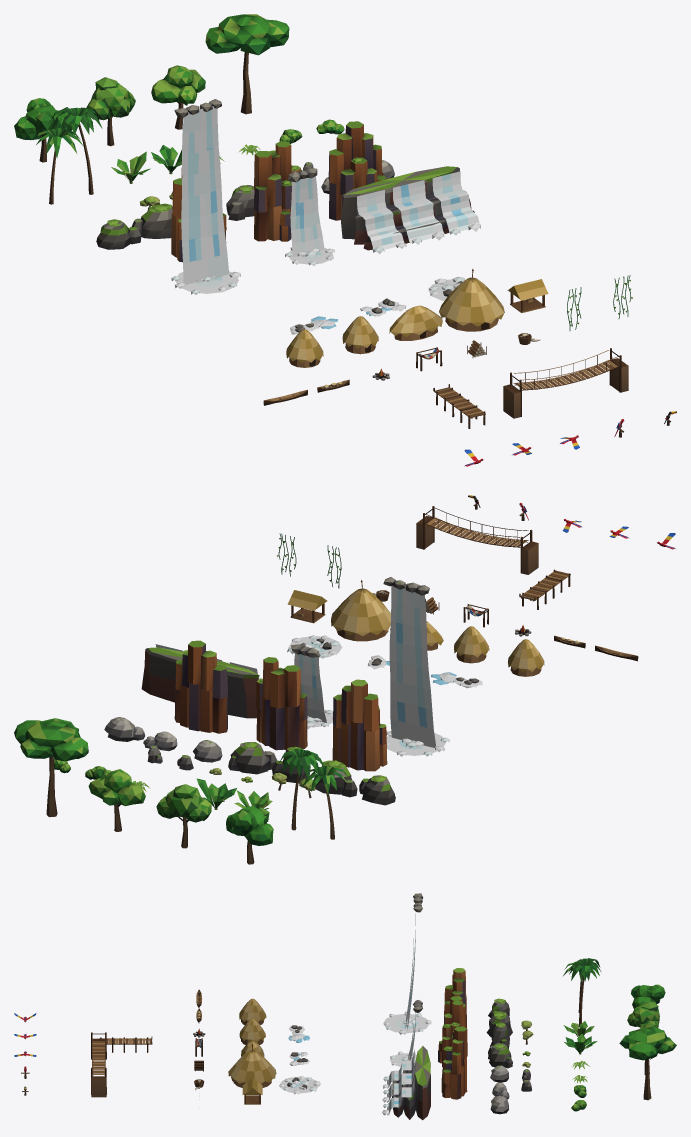
Rendered from canaima_kit.glb.
The picture shows the model from 3 angles, top to bottom: view 1: azimuth 30°, elevation 25°; view 2: azimuth 150°, elevation 25°; view 3: azimuth 270°, elevation 25°; orthographic projection. The views are drawn at different scales.
Parts seen in each view (by area): view 1: cascada_ancha, cascada_alta, cima_roca_b, cima_roca_c, arbol_selva_alto, cascada_media, choza_grande, puente_cuerdas, arbol_selva_c, arbol_selva_b, arbol_selva_a, choza_c (+10 smaller); view 2: cascada_alta, cima_roca_c, cima_roca_a, cima_roca_b, cascada_ancha, arbol_selva_alto, choza_grande, puente_cuerdas, cascada_media, arbol_selva_b, arbol_selva_c, arbol_selva_a (+12 smaller); view 3: cascada_ancha, cima_roca_c, arbol_selva_alto, cascada_alta, choza_grande, puente_cuerdas, cima_roca_b, arbol_selva_b, cima_roca_a, arbol_selva_a, espuma_pozo, palma_selva_b (+6 smaller).
Boxes of the visible parts, <box> form: cascada_ancha: <box>340,166,480,254</box>; cascada_alta: <box>171,99,240,294</box>; cima_roca_b: <box>254,141,300,241</box>; cima_roca_c: <box>328,121,386,220</box>; arbol_selva_alto: <box>205,14,289,114</box>; cascada_media: <box>285,167,334,265</box>; choza_grande: <box>439,269,504,331</box>; puente_cuerdas: <box>503,348,628,418</box>; arbol_selva_c: <box>151,65,205,129</box>; arbol_selva_b: <box>86,77,135,146</box>; arbol_selva_a: <box>14,98,72,162</box>; choza_c: <box>389,305,442,340</box>; cascada_alta: <box>383,577,449,756</box>; cima_roca_c: <box>174,640,227,733</box>; cima_roca_a: <box>332,679,387,771</box>; cima_roca_b: <box>256,657,307,750</box>; cascada_ancha: <box>141,644,262,718</box>; arbol_selva_alto: <box>14,718,88,817</box>; choza_grande: <box>331,580,390,641</box>; puente_cuerdas: <box>416,506,538,574</box>; cascada_media: <box>291,644,332,729</box>; arbol_selva_b: <box>156,784,211,848</box>; arbol_selva_c: <box>88,769,145,831</box>; arbol_selva_a: <box>226,806,273,864</box>; cascada_ancha: <box>382,1046,430,1120</box>; cima_roca_c: <box>441,1026,467,1099</box>; arbol_selva_alto: <box>619,1026,676,1100</box>; cascada_alta: <box>383,893,431,1034</box>; choza_grande: <box>228,1044,276,1087</box>; puente_cuerdas: <box>91,1032,106,1097</box>; cima_roca_b: <box>438,996,465,1066</box>; arbol_selva_b: <box>627,1001,659,1027</box>; cima_roca_a: <box>444,968,466,1028</box>; arbol_selva_a: <box>631,984,665,1009</box>; espuma_pozo: <box>279,1076,320,1094</box>; palma_selva_b: <box>568,958,601,1026</box>.
Bounding box in the file's own units: 92.73 × 42.76 × 198.
